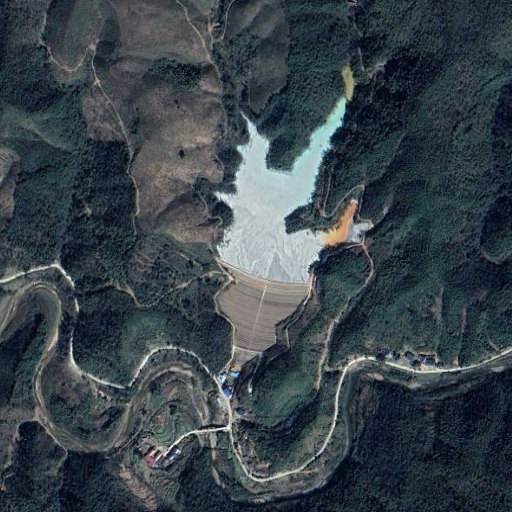tp: (216, 98, 370, 376)
